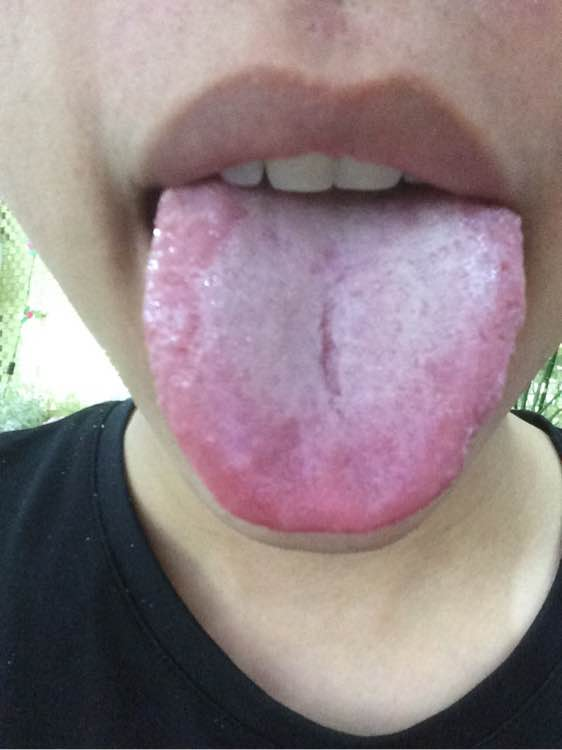baitaishe: (145, 182, 526, 534)
hongshe: (144, 182, 525, 534)
liewenshe: (315, 294, 345, 420)
